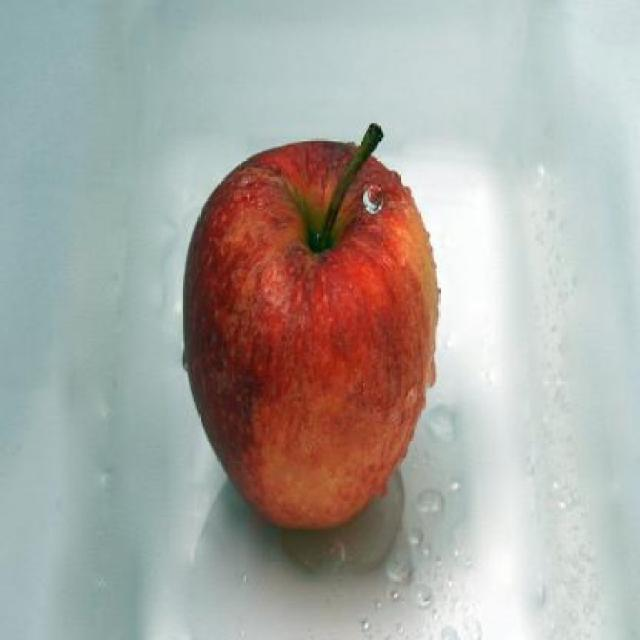Apple pie: (182, 121, 436, 550)
